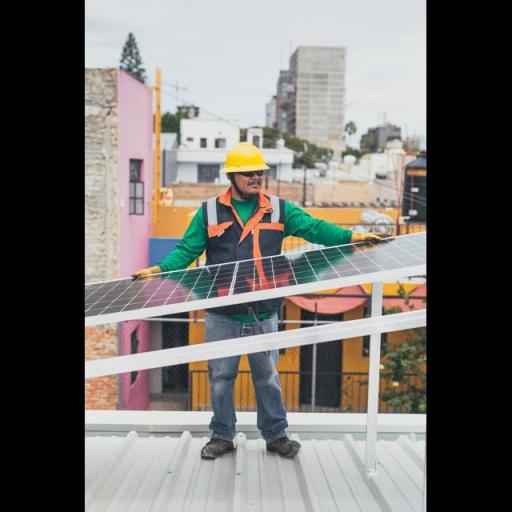Person: (158, 120, 351, 458)
boots: (259, 424, 305, 462), (189, 434, 236, 468)
gloves: (348, 227, 390, 246), (133, 264, 164, 278)
helmet: (220, 137, 272, 177)
